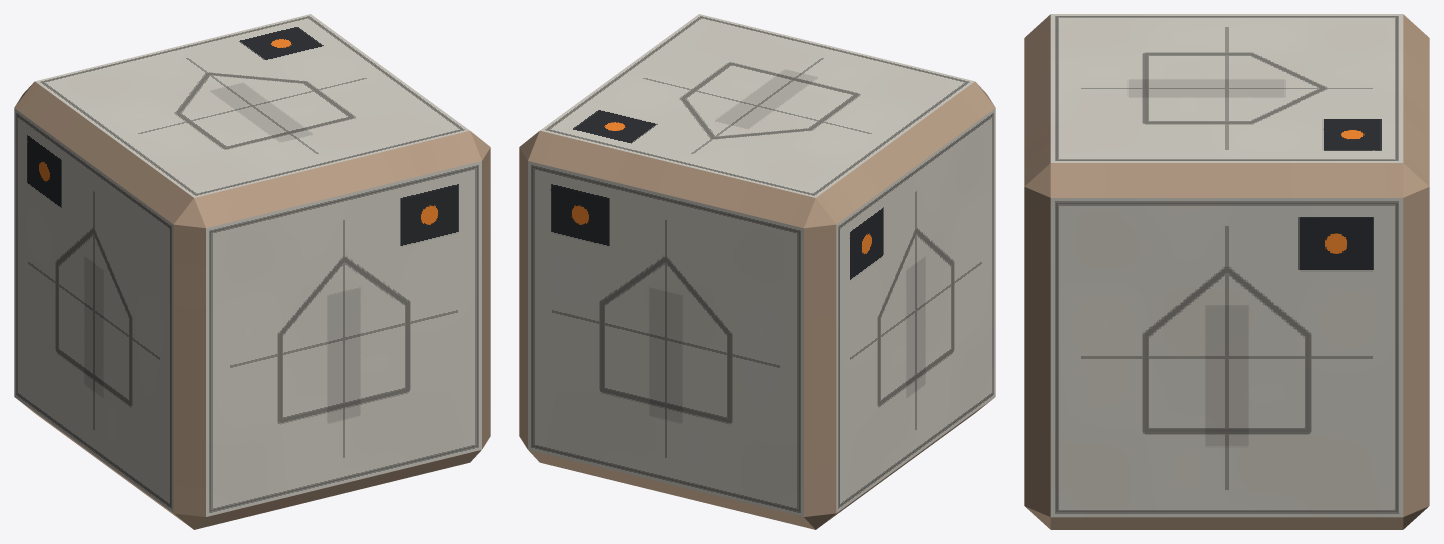
3 renders of one model, left to right at view 1: azimuth 30°, elevation 25°; view 2: azimuth 150°, elevation 25°; view 3: azimuth 270°, elevation 25°, orthographic. The views are drawn at different scales.
Visible parts, largest first — view 1: Aluminum; view 2: Aluminum; view 3: Aluminum.
Boxes of the visible parts, x1,y1,x2,y2 form: Aluminum: [14, 14, 490, 529]; Aluminum: [519, 14, 995, 529]; Aluminum: [1024, 14, 1429, 529].
Size of the model in its own units: 1 by 1 by 1.
1 material, 1 textured.
